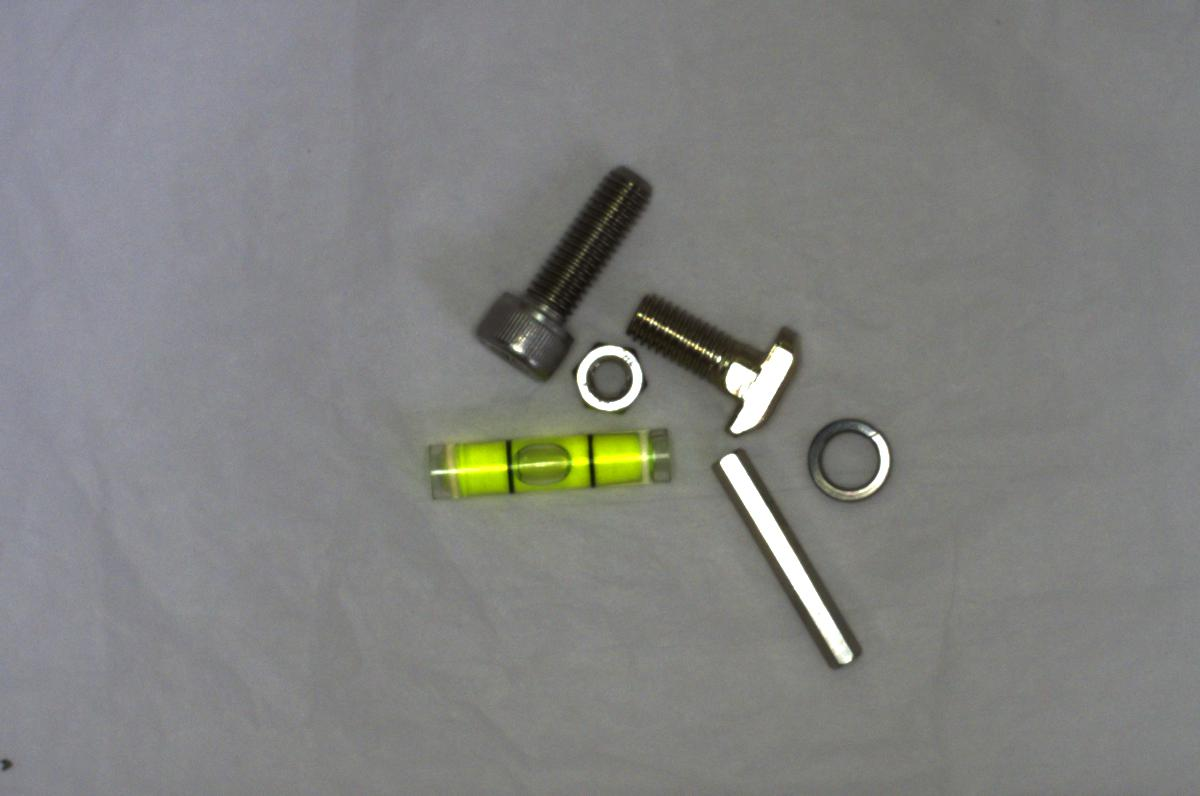Double hexagonal column: (714, 446, 862, 675)
Hexagon nut: (568, 330, 654, 416)
Horizontal bubble: (402, 419, 681, 508)
Spring washer: (805, 410, 900, 502)
T-shaped screw: (615, 290, 804, 441)
